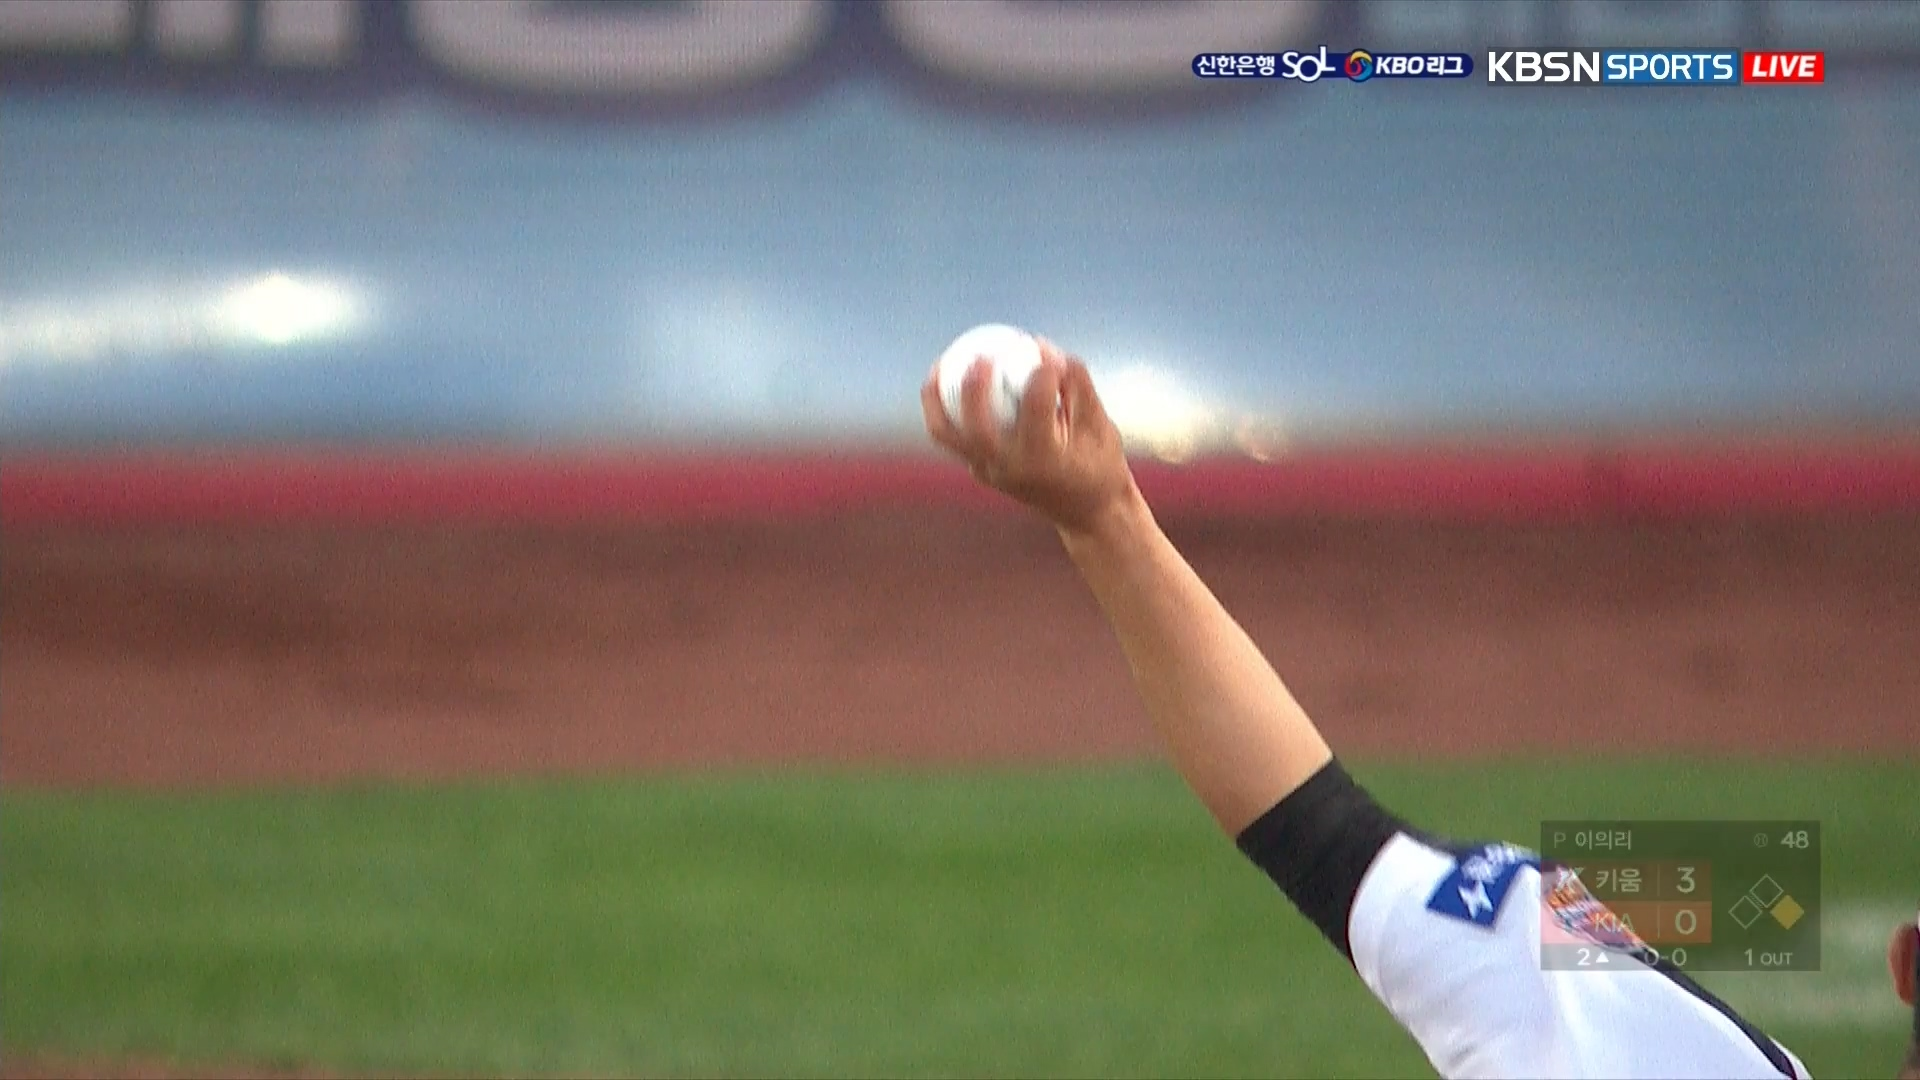zoomin_hand: (898, 291, 1341, 880)
